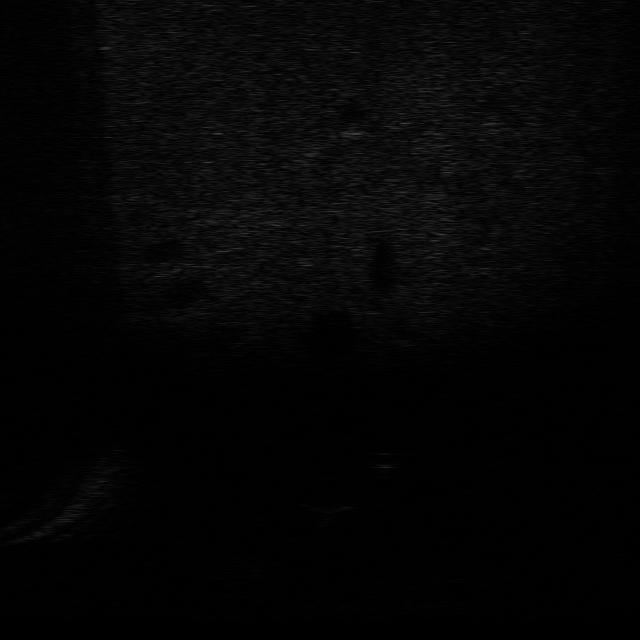ball: (362, 445, 408, 477)
square cage: (293, 478, 362, 522)
